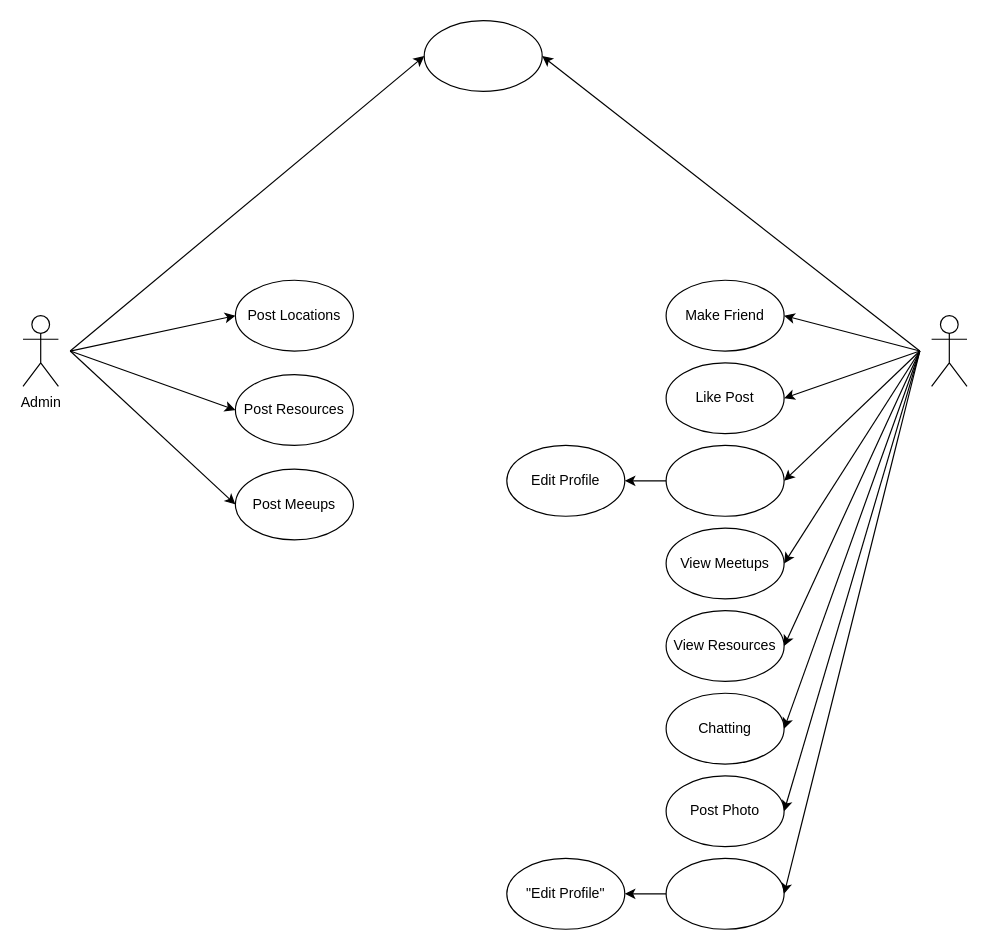
This 988x950 diagram has some shape labels left out. The shapes that lost their labels are listed below. From the top down, each one's centre as x and y in pixels, then its label:
point (482, 55): Login/ Logout
point (948, 350): User
point (724, 480): User Profile
point (724, 893): Submit ID
